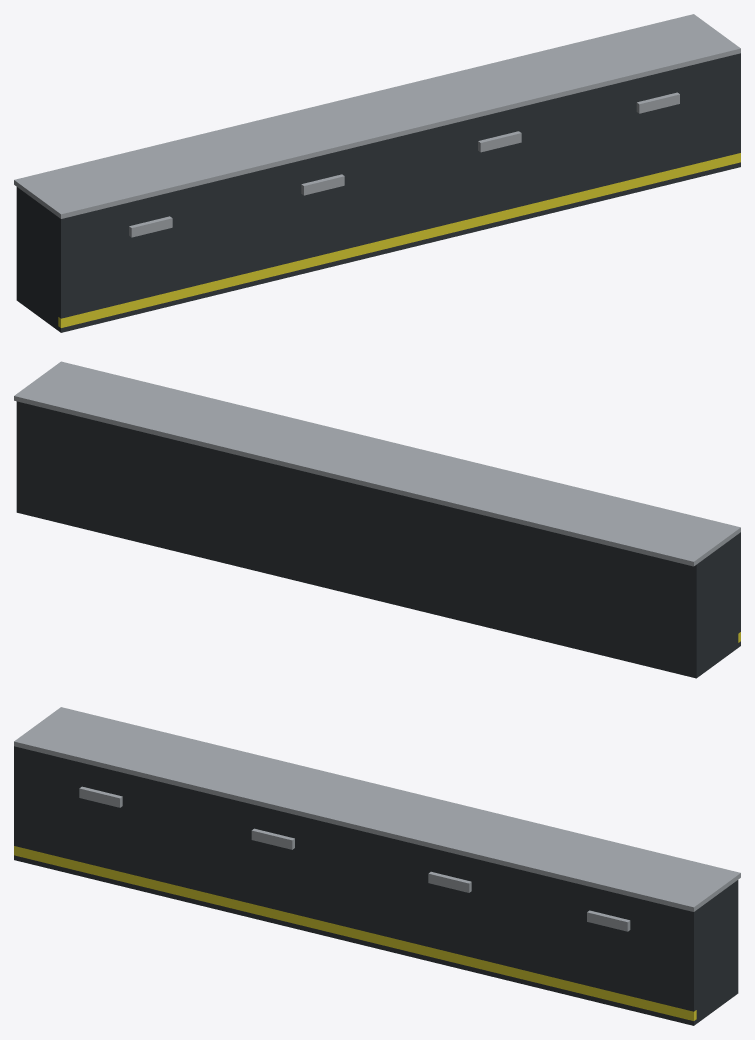
The model's file is tow_truck_locker.glb.
3 renders of one model, top to bottom at view 1: azimuth 30°, elevation 25°; view 2: azimuth 150°, elevation 25°; view 3: azimuth 330°, elevation 25°, orthographic.
Visible parts, largest first — view 1: body:compound; view 2: body:compound; view 3: body:compound.
Boxes of the visible parts, x1,y1,x2,y2 form: body:compound: [14, 14, 740, 332]; body:compound: [14, 361, 740, 678]; body:compound: [14, 707, 740, 1025].
Size of the model in its own units: 4.69 by 0.7812 by 0.5938.
